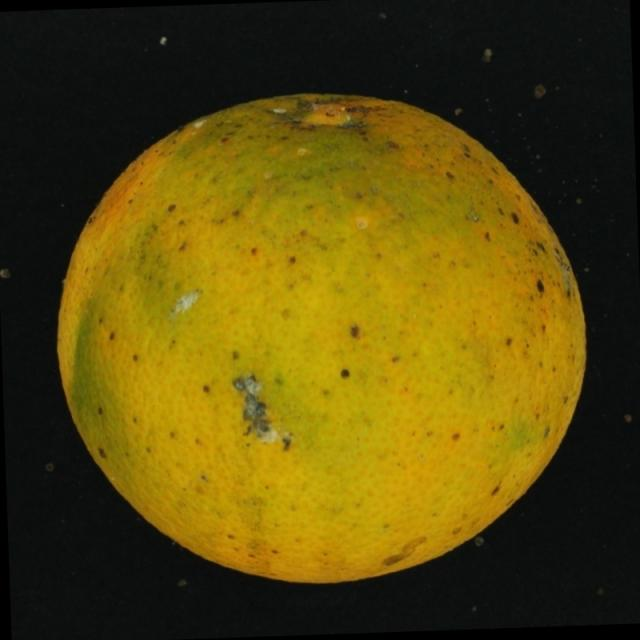grenning: (36, 76, 609, 607)
